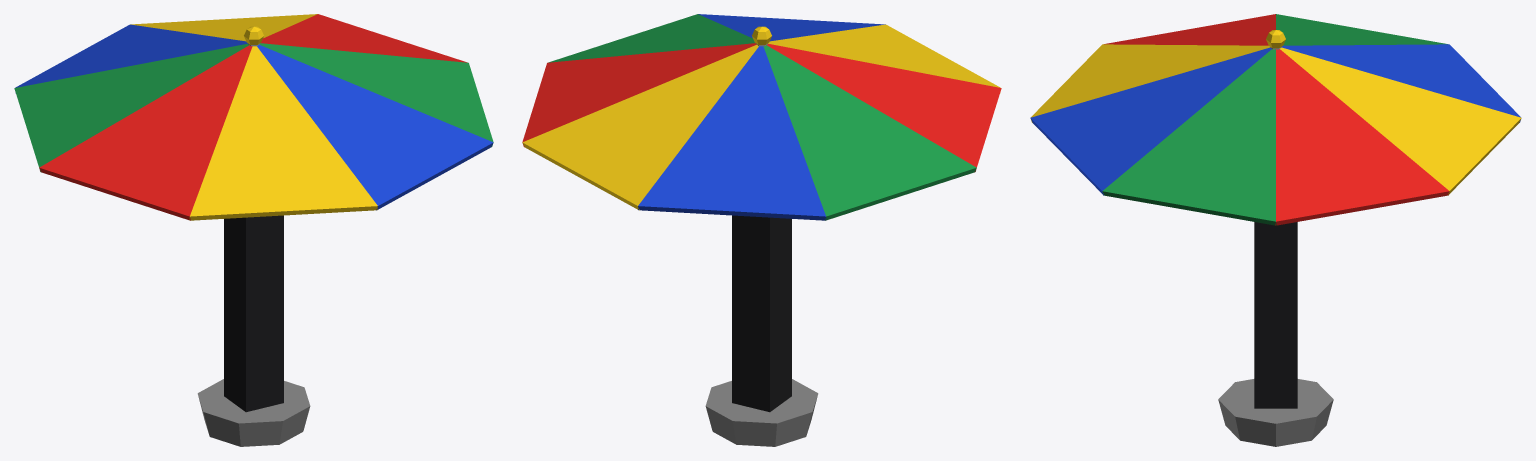
The model's file is env_market_umbrella.fbx.
3 views of the same model, side by side, from view 1: azimuth 30°, elevation 25°; view 2: azimuth 150°, elevation 25°; view 3: azimuth 270°, elevation 25° (orthographic).
Visible parts, largest first — view 1: env_market_umbrella_geo, COL_env_market_umbrella; view 2: env_market_umbrella_geo, COL_env_market_umbrella; view 3: env_market_umbrella_geo, COL_env_market_umbrella.
Part boxes in pixels (box(x1,y1,x2,y2)): env_market_umbrella_geo: box(14, 14, 493, 446); COL_env_market_umbrella: box(224, 215, 283, 412); env_market_umbrella_geo: box(522, 14, 1001, 446); COL_env_market_umbrella: box(732, 215, 791, 412); env_market_umbrella_geo: box(1030, 14, 1521, 446); COL_env_market_umbrella: box(1254, 222, 1297, 408).
Bounding box in the file's own units: 3.4 × 3.02 × 3.4.
